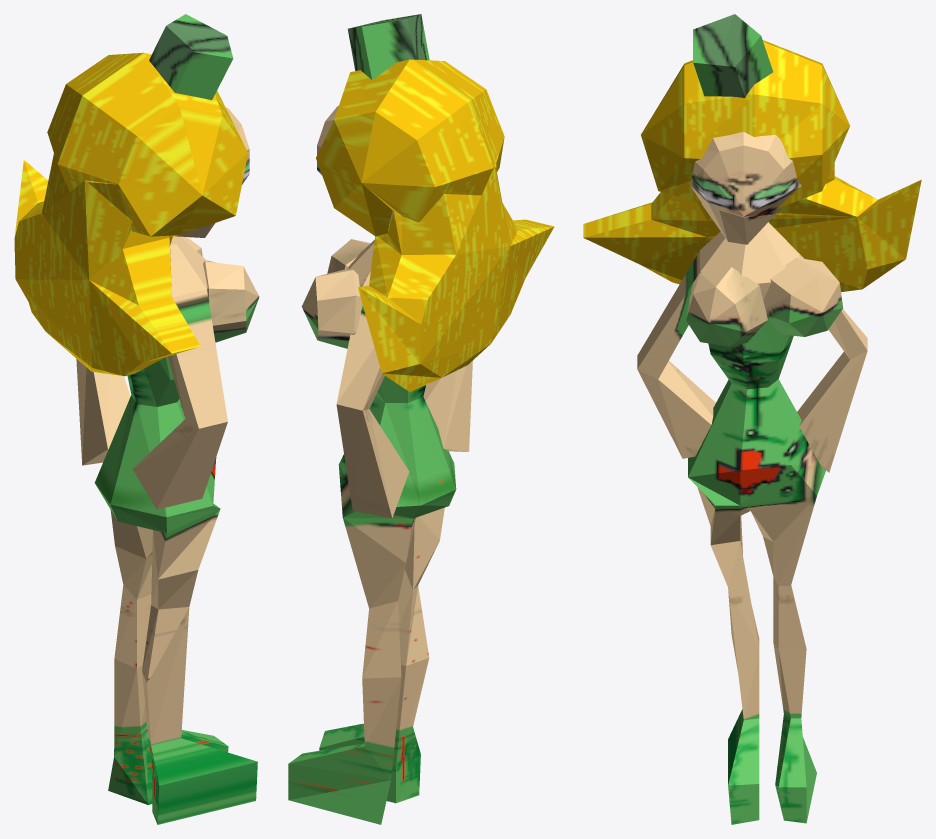
File: PozPhon1.glb
3 views of the same model, side by side, from view 1: azimuth 30°, elevation 25°; view 2: azimuth 150°, elevation 25°; view 3: azimuth 270°, elevation 25° (orthographic). The views are drawn at different scales.
Parts seen in each view (by area): view 1: PozPhon1; view 2: PozPhon1; view 3: PozPhon1.
Part boxes in pixels (left/top/right/bottom): PozPhon1: left=14, top=14, right=259, bottom=824; PozPhon1: left=288, top=14, right=554, bottom=824; PozPhon1: left=583, top=14, right=921, bottom=824.
Size of the model in its own units: 15.71 by 63.91 by 25.49.
1 material, 1 textured.
